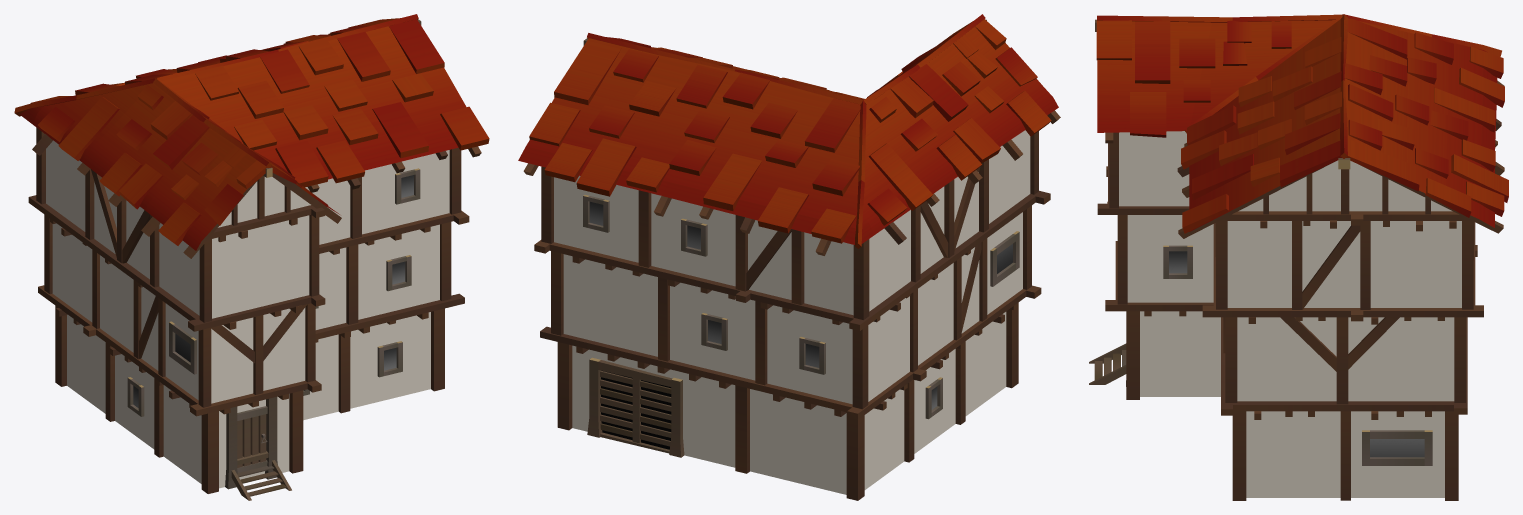
The model's file is House_3.fbx.
The picture shows the model from 3 angles, left to right: view 1: azimuth 30°, elevation 25°; view 2: azimuth 150°, elevation 25°; view 3: azimuth 270°, elevation 25°; orthographic projection. The views are drawn at different scales.
Visible parts, largest first — view 1: polySurface9612; view 2: polySurface9612; view 3: polySurface9612.
Boxes of the visible parts, x1,y1,x2,y2 form: polySurface9612: (14, 14, 489, 500); polySurface9612: (518, 14, 1060, 500); polySurface9612: (1089, 14, 1508, 500).
Bounding box in the file's own units: 1101 × 1012 × 1067.
